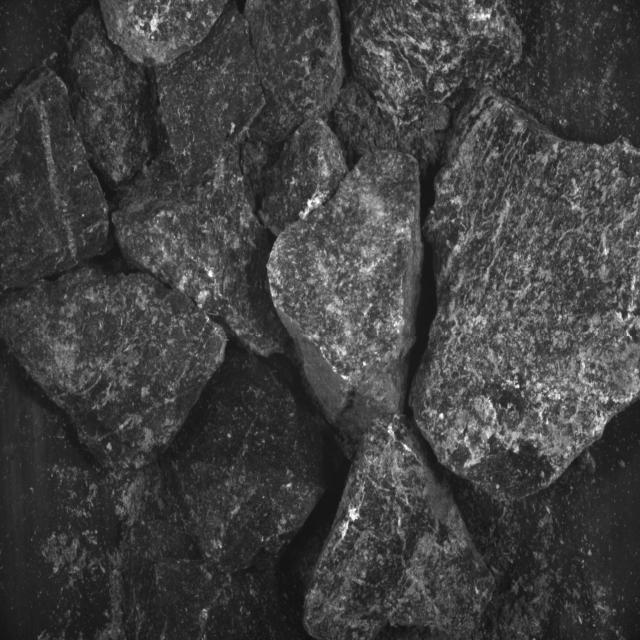Stones: (412, 96, 640, 498), (1, 270, 227, 469), (269, 151, 424, 433), (305, 415, 495, 640), (114, 147, 290, 357), (167, 354, 326, 572), (1, 71, 110, 291), (350, 1, 522, 124), (157, 6, 266, 185), (70, 9, 155, 186), (246, 1, 345, 140), (261, 118, 349, 237), (101, 1, 227, 67)
